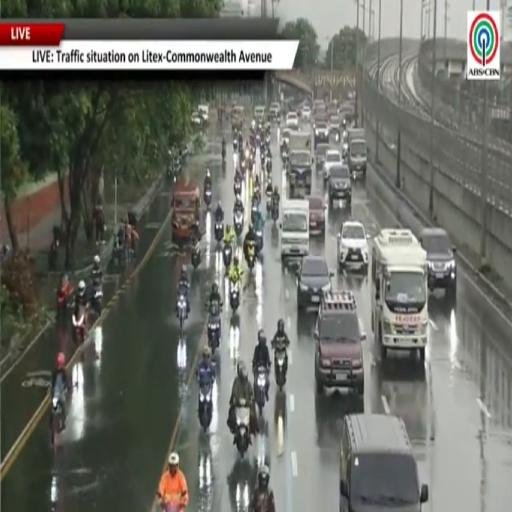car: (339, 413, 428, 511), (314, 291, 365, 398), (419, 228, 456, 298), (297, 255, 333, 309), (337, 220, 368, 270), (328, 164, 351, 205), (307, 196, 325, 235), (324, 150, 342, 181), (315, 143, 329, 170), (314, 122, 329, 147), (329, 115, 341, 141), (286, 111, 299, 130), (198, 104, 209, 124), (254, 106, 266, 124), (280, 128, 291, 147), (269, 103, 280, 121), (313, 100, 326, 114), (191, 111, 203, 126), (301, 106, 311, 122)
motorcycle: (235, 399, 251, 456), (50, 394, 64, 446), (207, 302, 220, 354), (198, 384, 212, 430), (255, 366, 267, 414), (57, 288, 72, 323), (72, 307, 86, 344), (275, 346, 286, 391), (91, 281, 103, 315), (177, 294, 187, 332), (255, 227, 264, 259), (230, 281, 239, 312), (246, 243, 256, 270), (191, 243, 201, 269), (222, 244, 232, 269), (234, 211, 244, 236), (215, 221, 223, 244), (251, 200, 258, 223), (204, 187, 212, 207), (271, 201, 278, 223), (266, 191, 272, 212), (234, 180, 241, 196), (261, 151, 266, 168), (267, 158, 272, 174), (222, 144, 226, 161), (265, 135, 270, 147), (256, 132, 260, 147)
truck: (372, 229, 428, 360), (171, 180, 201, 242), (287, 131, 314, 197), (348, 128, 367, 177)
